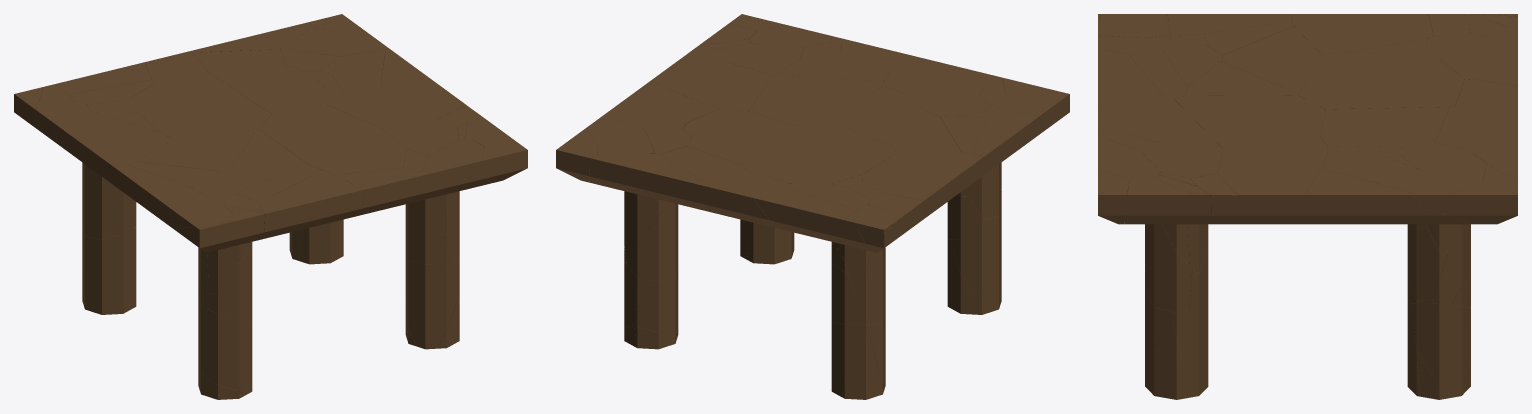
Rendered from table5-pieces2.fbx.
The picture shows the model from 3 angles, left to right: view 1: azimuth 30°, elevation 25°; view 2: azimuth 150°, elevation 25°; view 3: azimuth 270°, elevation 25°; orthographic projection. The views are drawn at different scales.
Visible parts, largest first — view 1: table5_cell.063, table5_cell.076, table5_cell.045, table5_cell.053, table5_cell.016, table5_cell.035, table5_cell.024, table5_cell.057, table5_cell.067, table5_cell.040, table5_cell.028, table5_cell.097 (+40 smaller); view 2: table5_cell.063, table5_cell.076, table5_cell.045, table5_cell.008, table5_cell.016, table5_cell.057, table5_cell.048, table5_cell.040, table5_cell.068, table5_cell.031, table5_cell.067, table5_cell.097 (+42 smaller); view 3: table5_cell.063, table5_cell.016, table5_cell.076, table5_cell.059, table5_cell.057, table5_cell.045, table5_cell.012, table5_cell.040, table5_cell.078, table5_cell.023, table5_cell.014, table5_cell.075 (+39 smaller).
Boxes of the visible parts, <box> form: table5_cell.063: <box>134,73,271,139</box>; table5_cell.076: <box>259,103,385,168</box>; table5_cell.045: <box>54,111,173,184</box>; table5_cell.053: <box>256,170,363,240</box>; table5_cell.016: <box>325,83,465,130</box>; table5_cell.035: <box>82,227,136,314</box>; table5_cell.024: <box>405,254,459,349</box>; table5_cell.057: <box>213,64,336,113</box>; table5_cell.067: <box>198,302,252,390</box>; table5_cell.040: <box>135,129,255,171</box>; table5_cell.028: <box>82,163,132,239</box>; table5_cell.097: <box>113,164,206,228</box>; table5_cell.063: <box>745,123,897,183</box>; table5_cell.076: <box>748,75,883,125</box>; table5_cell.045: <box>880,148,983,216</box>; table5_cell.008: <box>589,153,709,202</box>; table5_cell.016: <box>651,59,772,111</box>; table5_cell.057: <box>687,110,795,166</box>; table5_cell.048: <box>753,187,856,242</box>; table5_cell.040: <box>836,113,960,151</box>; table5_cell.068: <box>706,169,796,233</box>; table5_cell.031: <box>627,202,678,281</box>; table5_cell.067: <box>951,215,1001,292</box>; table5_cell.097: <box>972,108,1043,175</box>; table5_cell.063: <box>1298,52,1464,109</box>; table5_cell.016: <box>1217,137,1327,224</box>; table5_cell.076: <box>1173,95,1325,147</box>; table5_cell.059: <box>1301,168,1427,224</box>; table5_cell.057: <box>1320,107,1449,147</box>; table5_cell.045: <box>1291,14,1433,54</box>; table5_cell.012: <box>1412,303,1470,394</box>; table5_cell.040: <box>1221,26,1321,94</box>; table5_cell.078: <box>1145,224,1191,312</box>; table5_cell.023: <box>1443,175,1517,224</box>; table5_cell.014: <box>1128,98,1220,146</box>; table5_cell.075: <box>1412,152,1486,213</box>.
Bounding box in the file's own units: 6.17 × 3.57 × 6.05.
